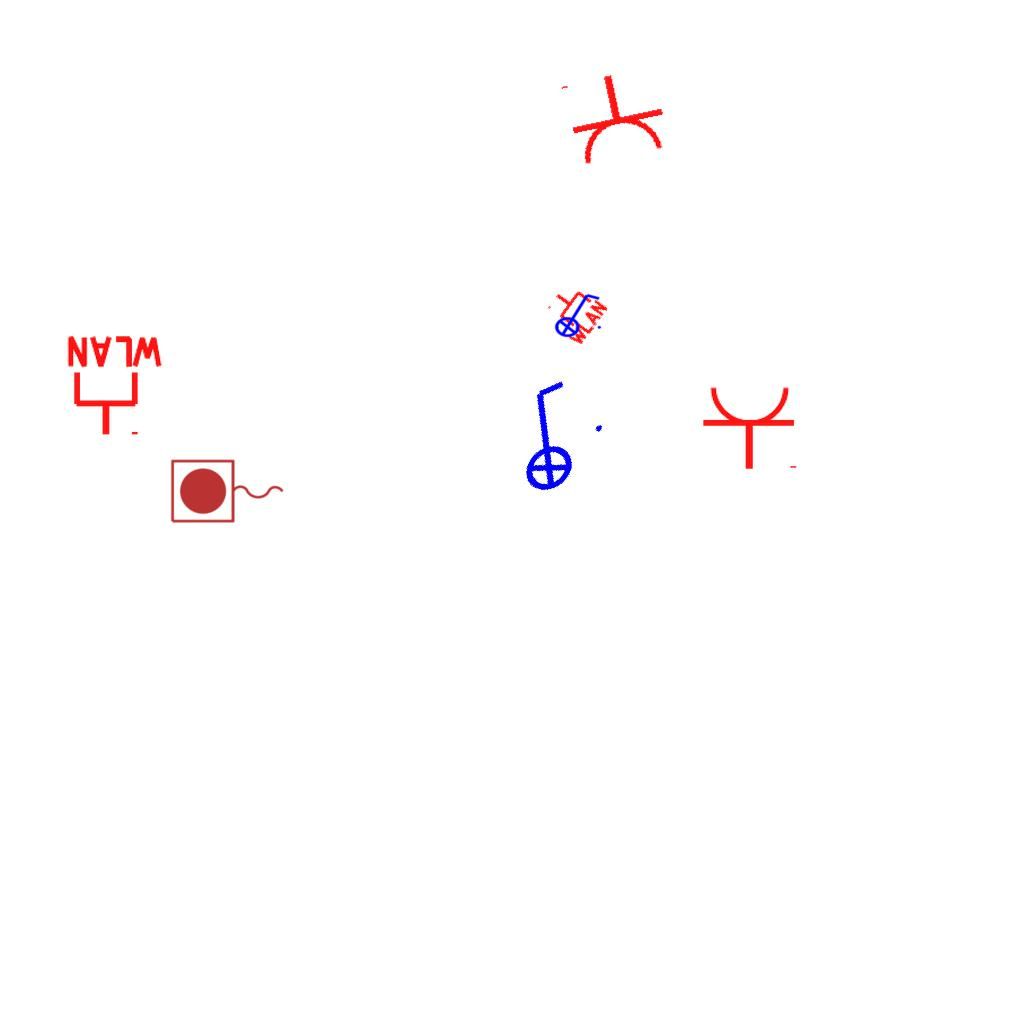Ausschalter_beleuchtet: (472, 364, 620, 510), (548, 290, 604, 338)
Schukosteckdose_einfach: (556, 64, 673, 170), (701, 384, 801, 471)
WLAN: (63, 334, 167, 439), (537, 276, 611, 350)
Zugtaster: (167, 456, 289, 528)
